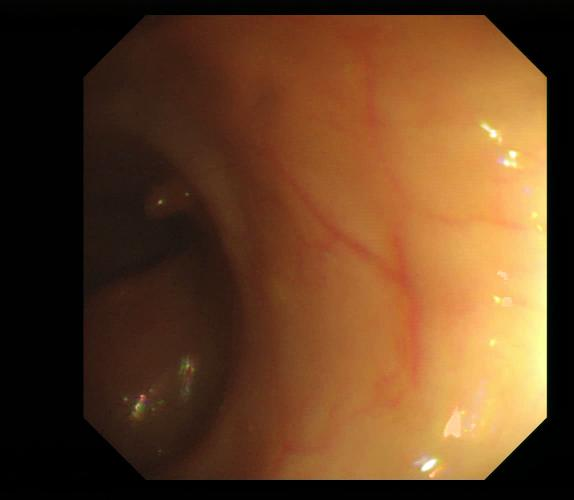polyp: (142, 173, 201, 218)
